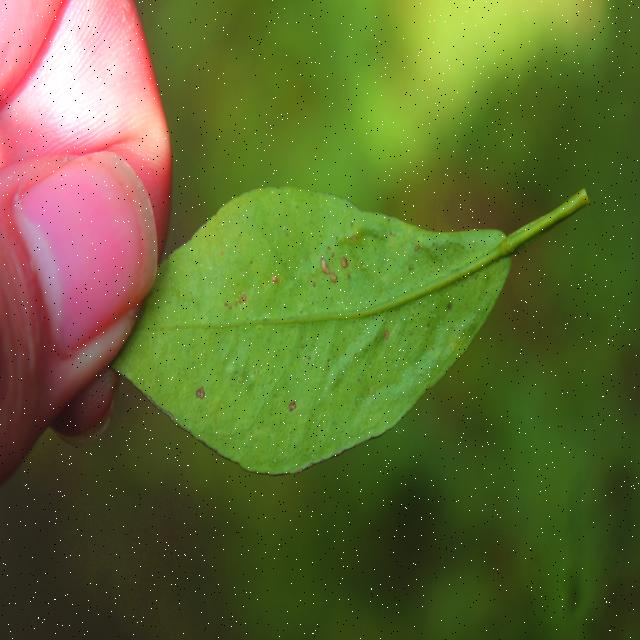canker: (183, 240, 385, 418)
